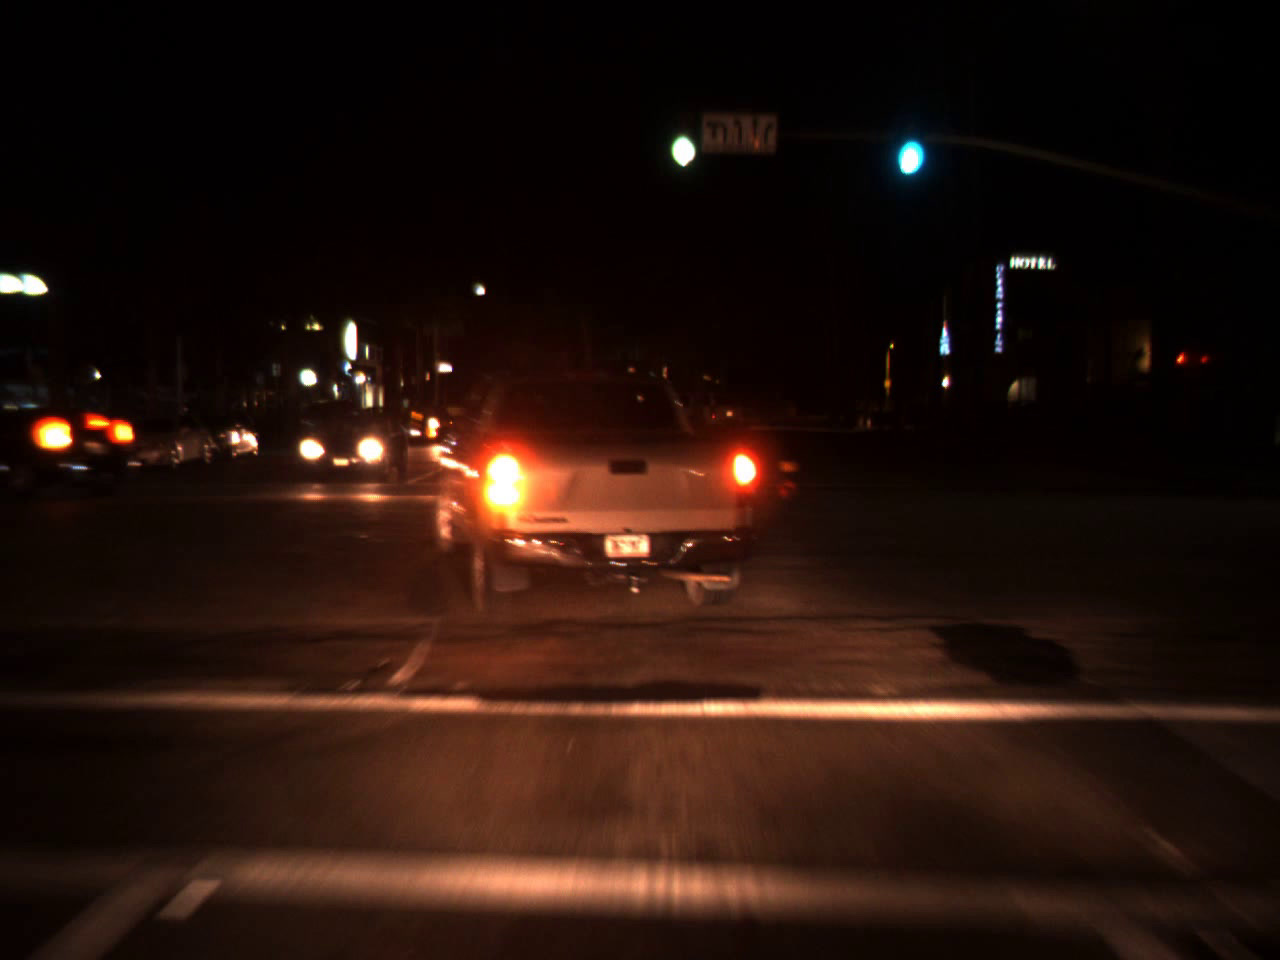go: (885, 107, 928, 185), (662, 96, 701, 179)
